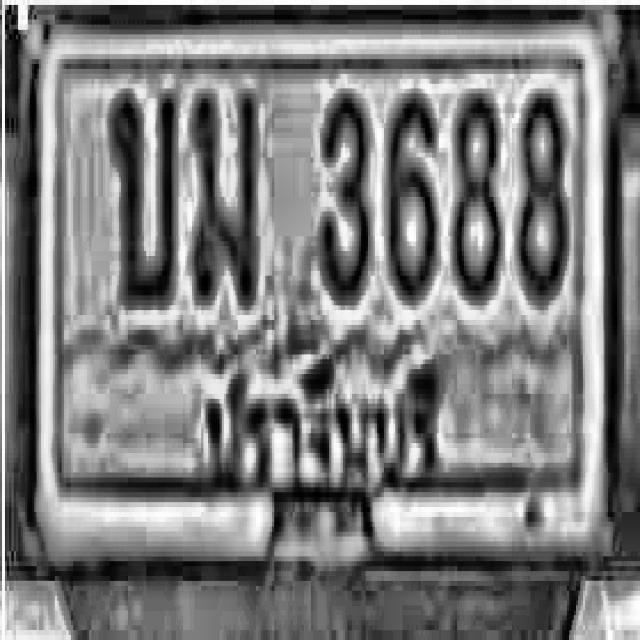license-plate: (25, 16, 620, 559)
